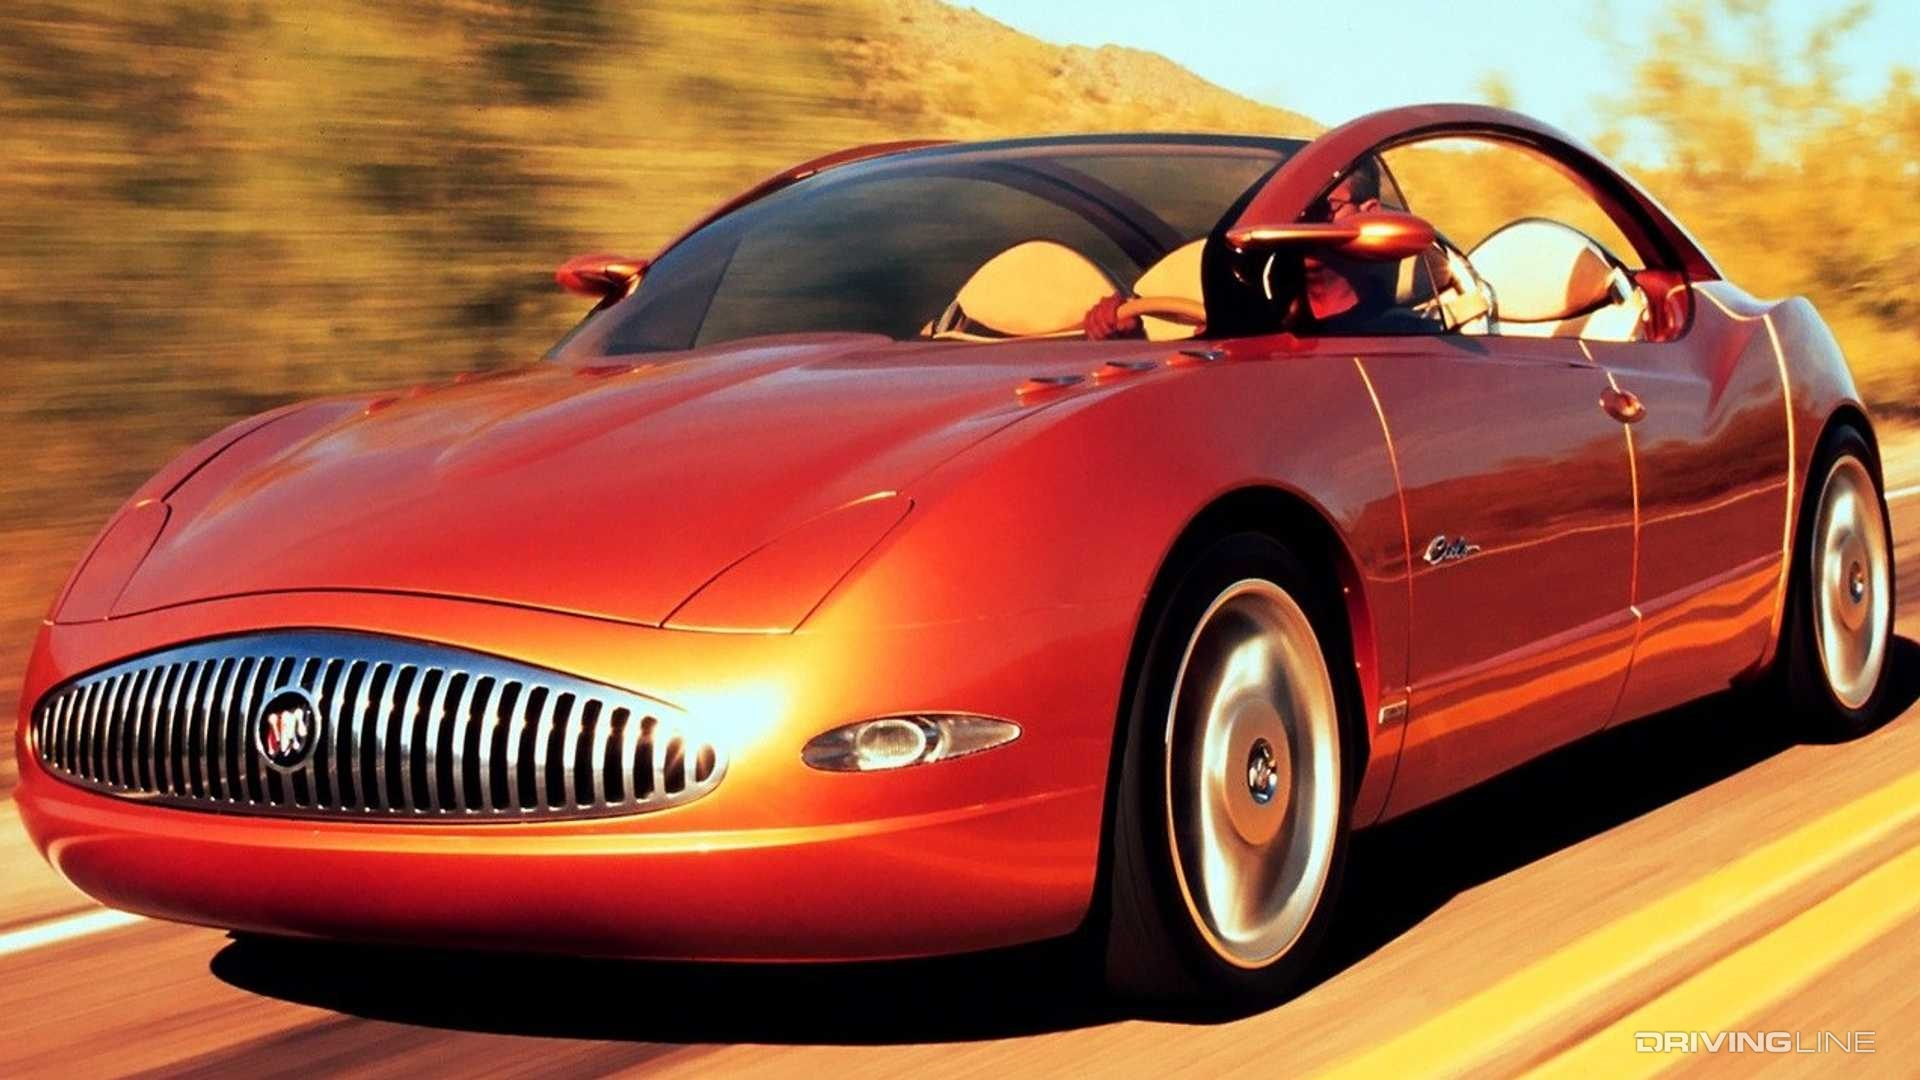headlight: (775, 720, 1019, 769)
wheel: (1102, 526, 1371, 1025), (1756, 411, 1909, 746)
